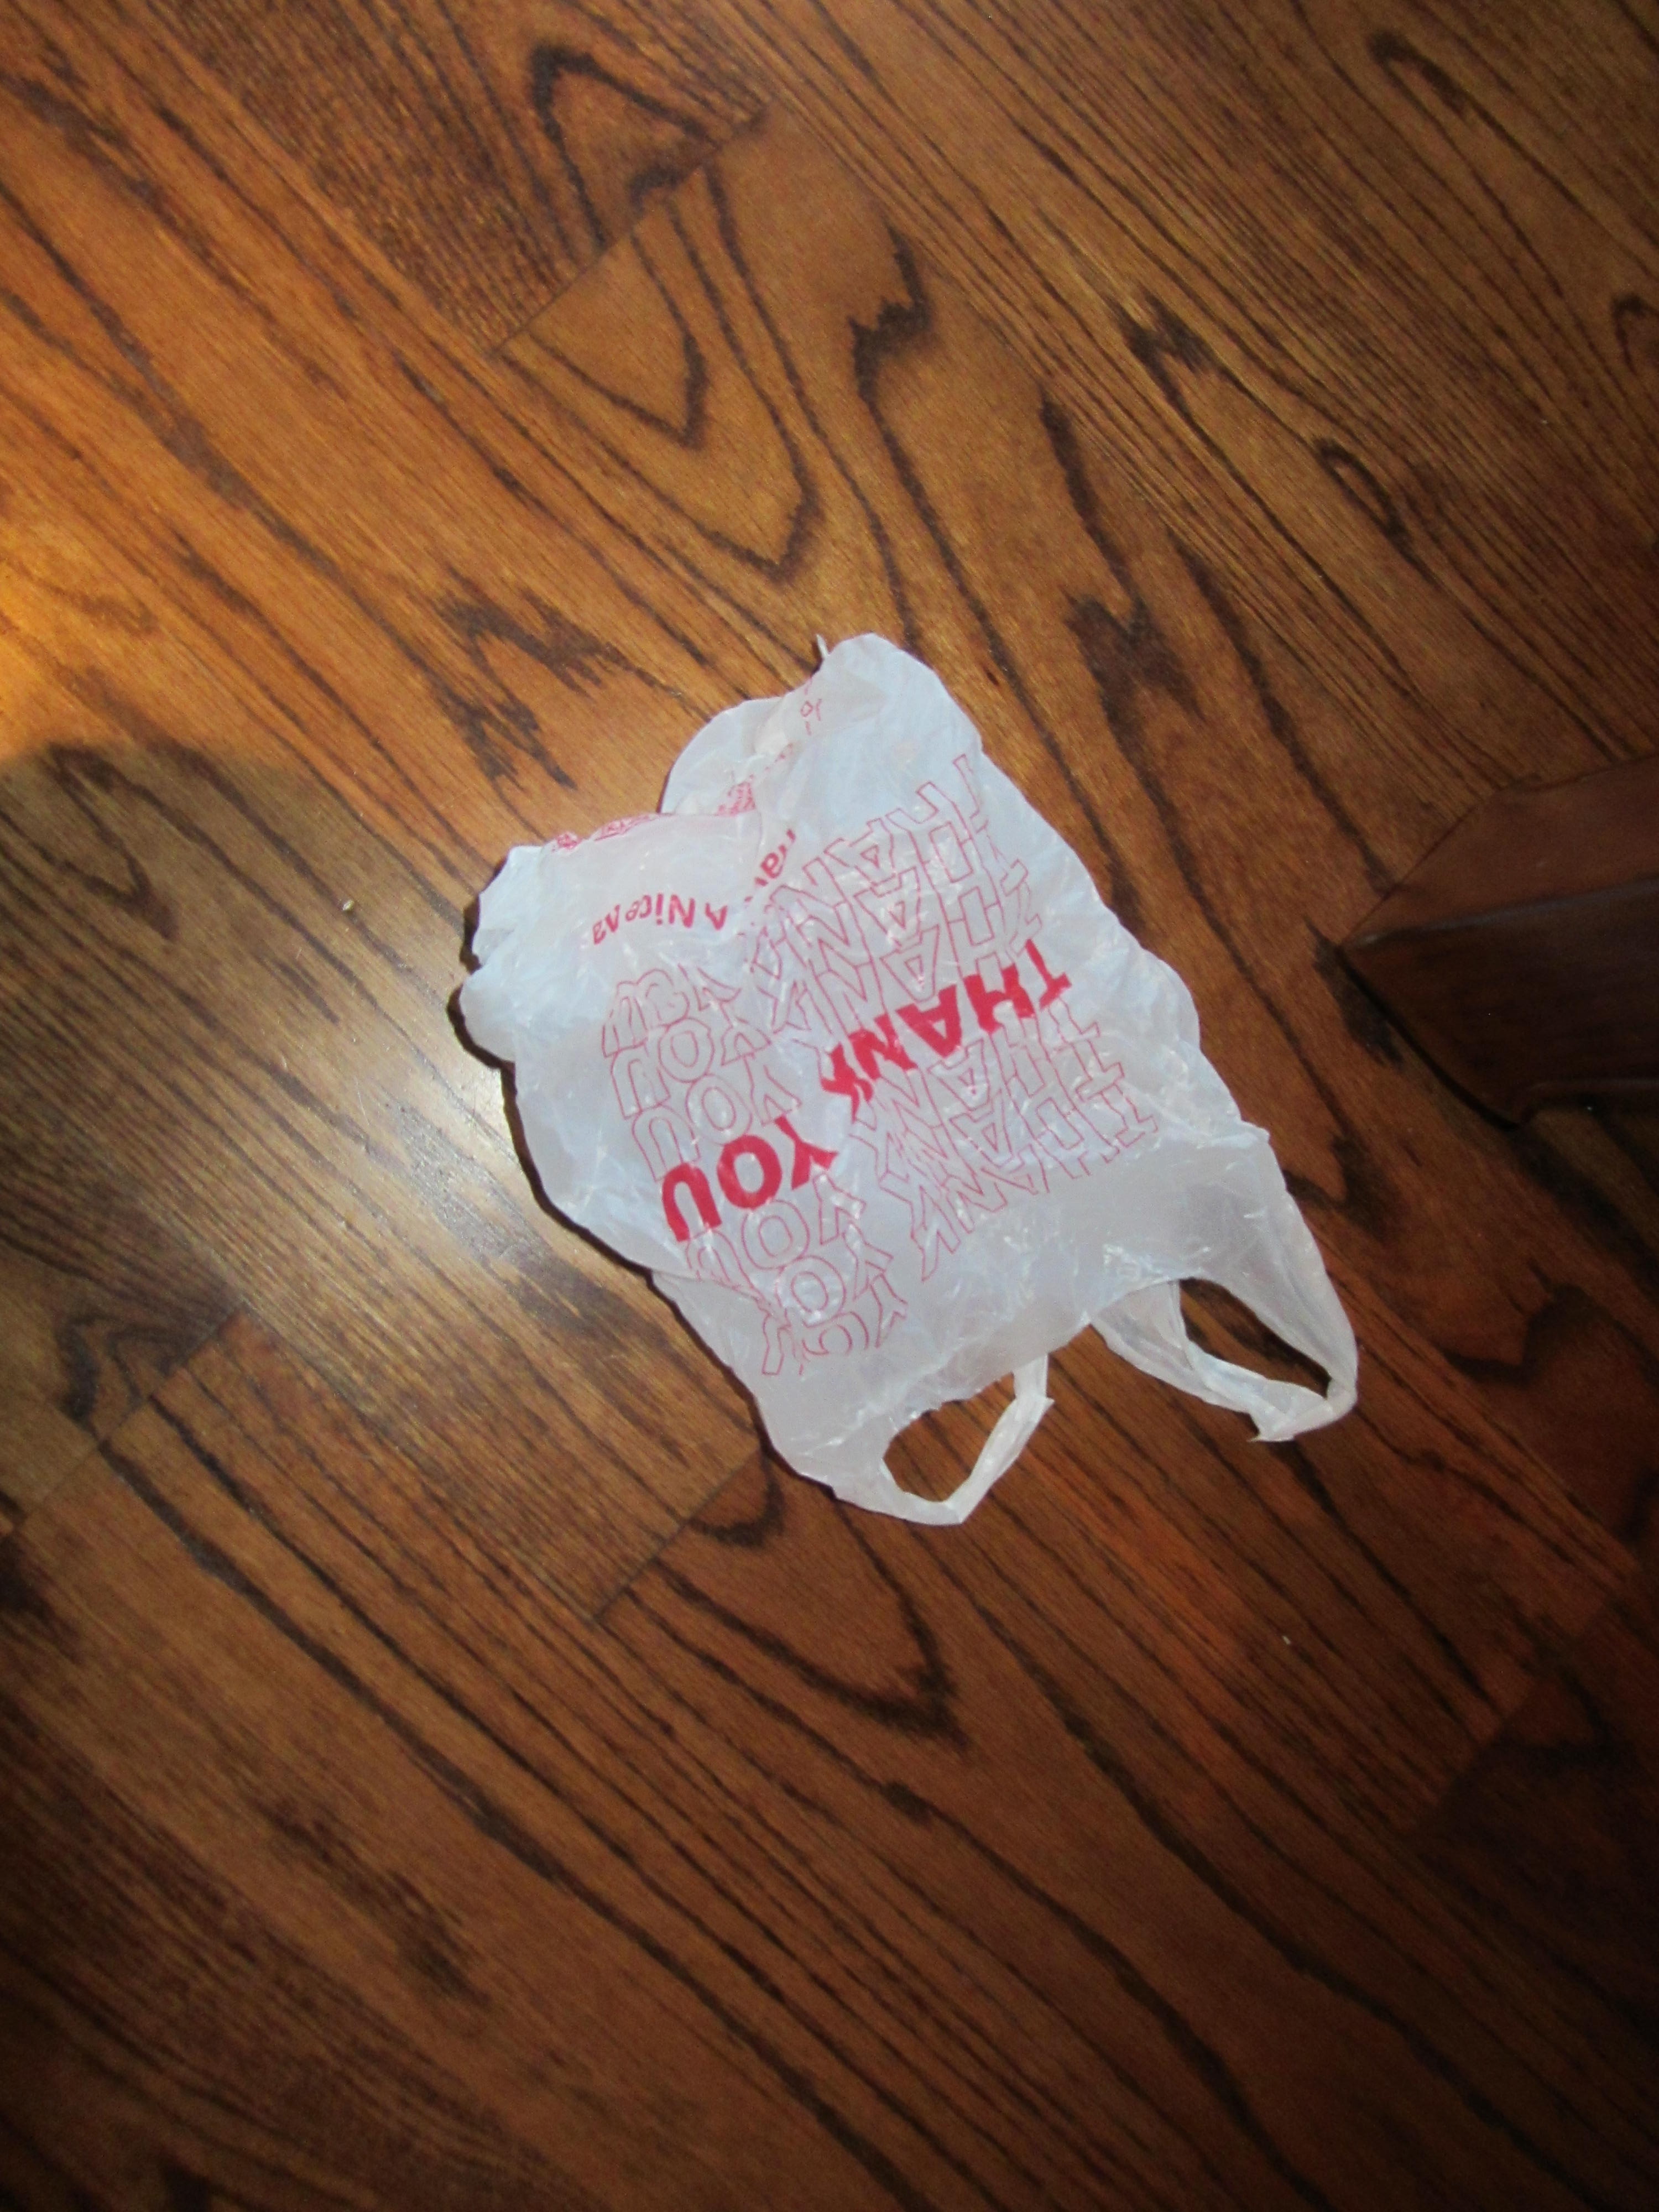plastic_bag: (443, 615, 1371, 1538)
